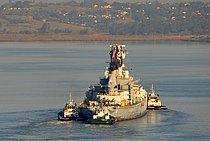MIL_Ship: (77, 42, 148, 121)
